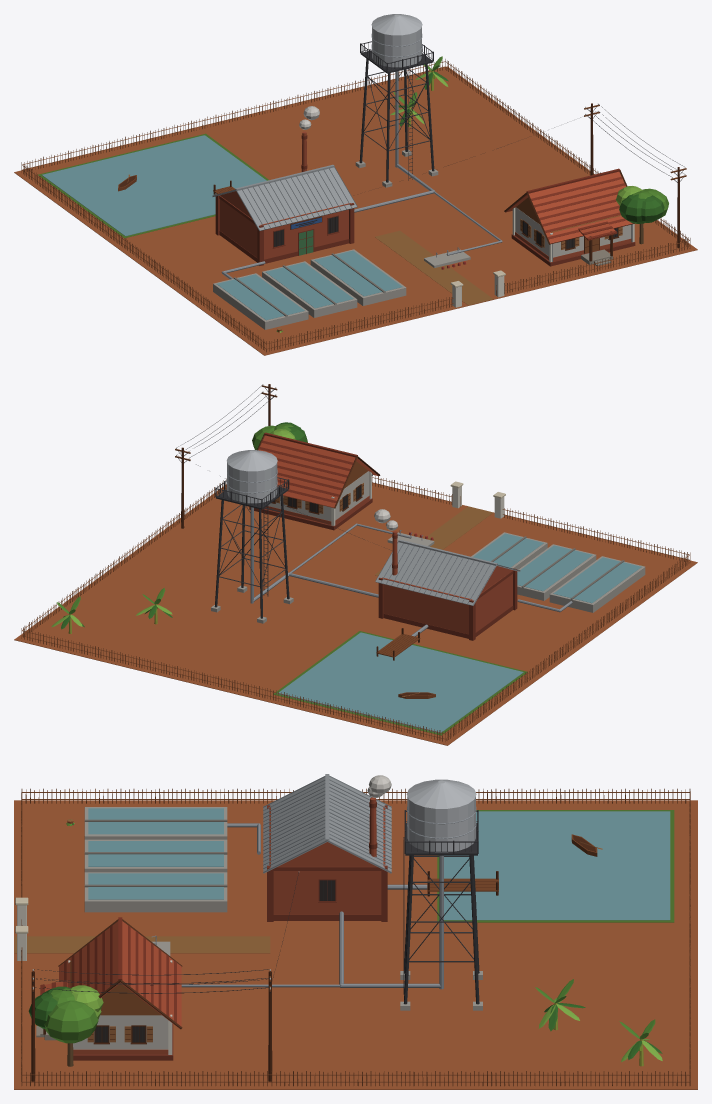
The model's file is water_works.glb.
The picture shows the model from 3 angles, top to bottom: view 1: azimuth 30°, elevation 25°; view 2: azimuth 150°, elevation 25°; view 3: azimuth 270°, elevation 25°; orthographic projection. The views are drawn at different scales.
Visible parts, largest first — view 1: body, windows; view 2: body; view 3: body, windows.
Boxes of the visible parts, <box> form: body: <box>14,14,697,355</box>; windows: <box>274,216,617,248</box>; body: <box>14,384,697,745</box>; body: <box>14,774,697,1089</box>; windows: <box>95,880,335,1042</box>.
Size of the model in its own units: 47.9 by 16.67 by 47.9.
